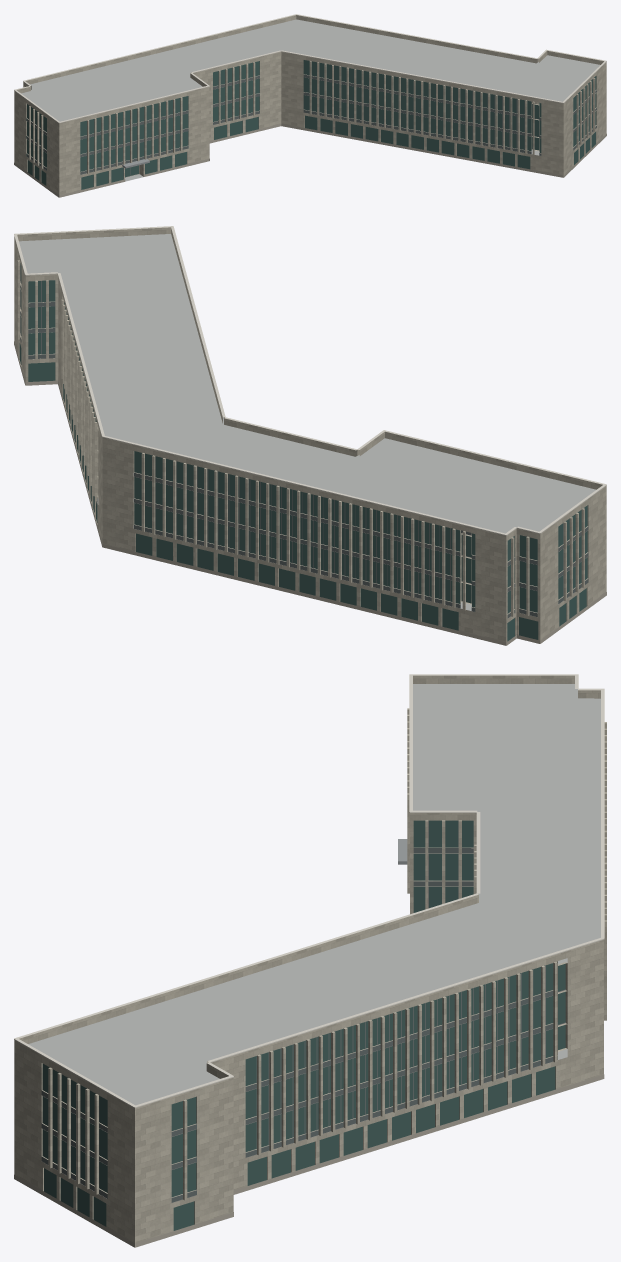
3 views of the same model, one above another, from view 1: azimuth 30°, elevation 25°; view 2: azimuth 150°, elevation 25°; view 3: azimuth 270°, elevation 25° (orthographic). The views are drawn at different scales.
Parts seen in each view (by area): view 1: pfeiffer__wall, pfeiffer__roof, pfeiffer__glass, pfeiffer__parapet, pfeiffer__spandrel, pfeiffer__trim, pfeiffer__base, pfeiffer__frame; view 2: pfeiffer__roof, pfeiffer__wall, pfeiffer__glass, pfeiffer__parapet, pfeiffer__spandrel, pfeiffer__trim, pfeiffer__frame, pfeiffer__base; view 3: pfeiffer__roof, pfeiffer__wall, pfeiffer__glass, pfeiffer__parapet, pfeiffer__trim, pfeiffer__spandrel, pfeiffer__frame, pfeiffer__base.
Part boxes in pixels (x1,y1,x2,y2): pfeiffer__wall: [14, 55, 606, 197]; pfeiffer__roof: [21, 19, 600, 181]; pfeiffer__glass: [26, 60, 596, 189]; pfeiffer__parapet: [14, 15, 606, 126]; pfeiffer__spandrel: [26, 74, 596, 174]; pfeiffer__trim: [14, 14, 606, 123]; pfeiffer__base: [14, 123, 606, 197]; pfeiffer__frame: [35, 77, 538, 175]; pfeiffer__roof: [19, 234, 596, 613]; pfeiffer__wall: [14, 241, 606, 645]; pfeiffer__glass: [19, 263, 587, 641]; pfeiffer__parapet: [14, 227, 606, 541]; pfeiffer__spandrel: [20, 285, 588, 618]; pfeiffer__trim: [14, 226, 606, 535]; pfeiffer__frame: [20, 264, 563, 601]; pfeiffer__base: [14, 341, 606, 645]; pfeiffer__roof: [28, 684, 600, 1198]; pfeiffer__wall: [14, 708, 606, 1247]; pfeiffer__glass: [42, 820, 565, 1230]; pfeiffer__parapet: [14, 675, 603, 1115]; pfeiffer__trim: [14, 674, 604, 1108]; pfeiffer__spandrel: [41, 848, 557, 1202]; pfeiffer__frame: [80, 820, 565, 1187]; pfeiffer__base: [14, 1074, 604, 1247].
Size of the model in its own units: 101 by 15.3 by 58.58.
10 materials, 2 textured.
